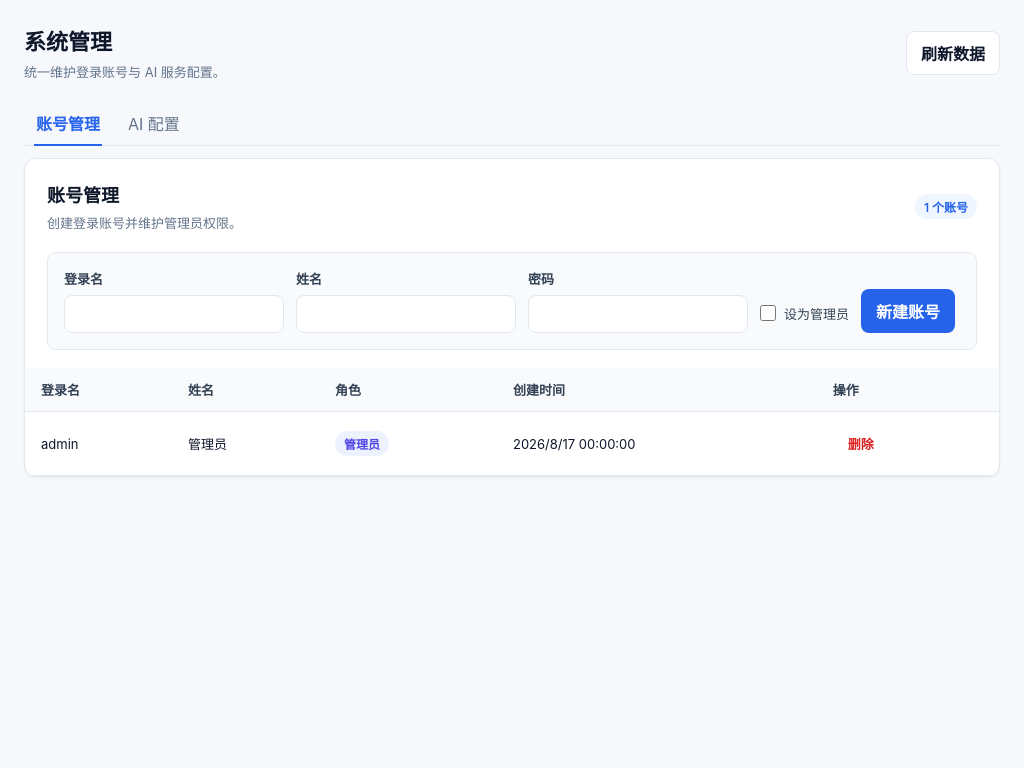
管理页与项目创建 › AI 配置连接测试展示服务端结果
Click the tab "AI 配置".
click(154, 123)  # box [116, 101, 192, 145]
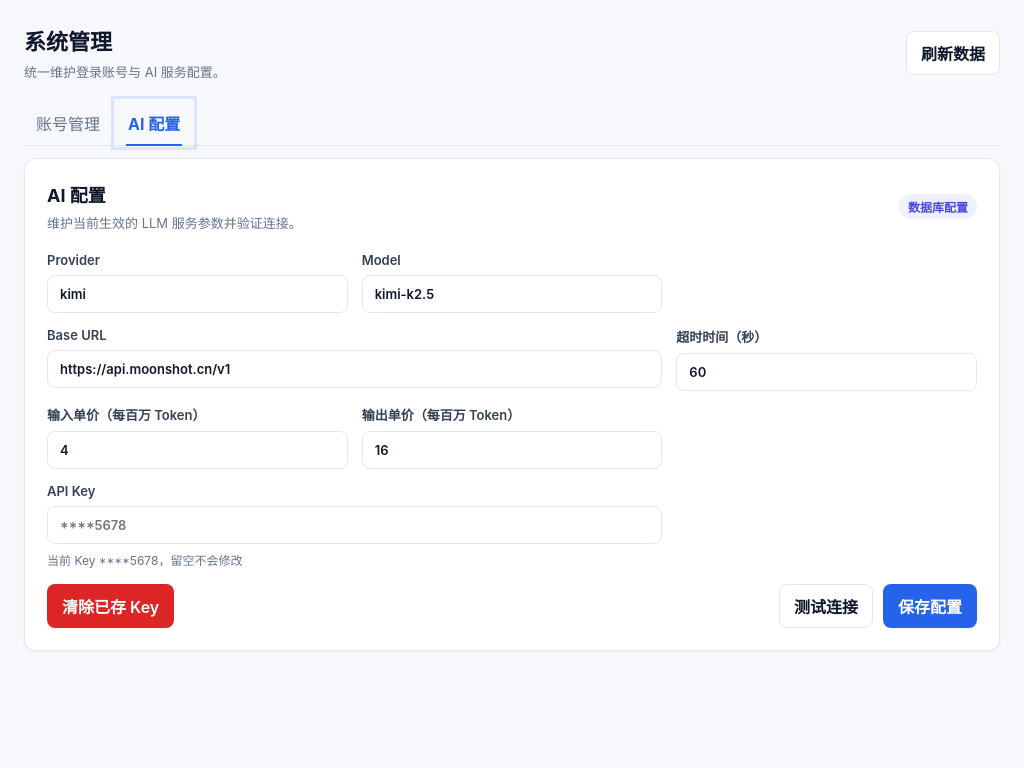
Check: the password field labelled "API Key" is shown, box [47, 506, 662, 544]
Click the button "测试连接".
click(826, 606)  # box [779, 584, 873, 628]
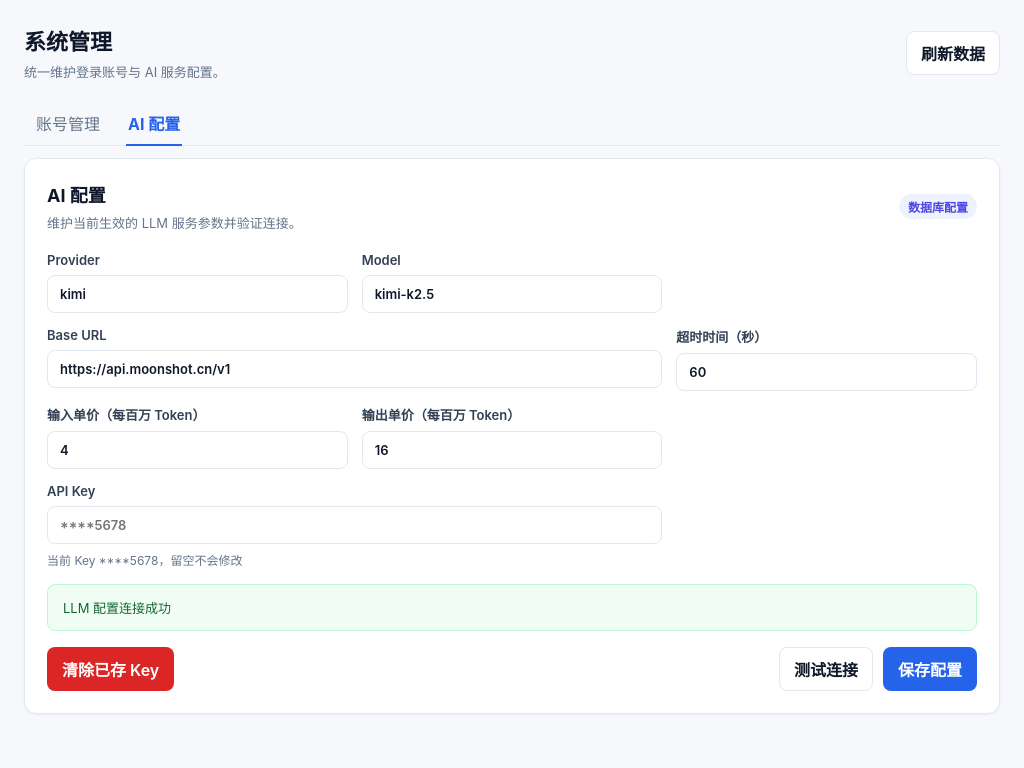
Check: the text "LLM 配置连接成功" is shown, box [63, 598, 171, 617]
